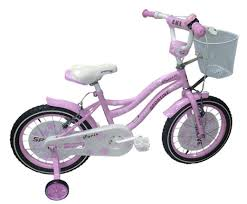bicycle: (8, 7, 239, 203)
